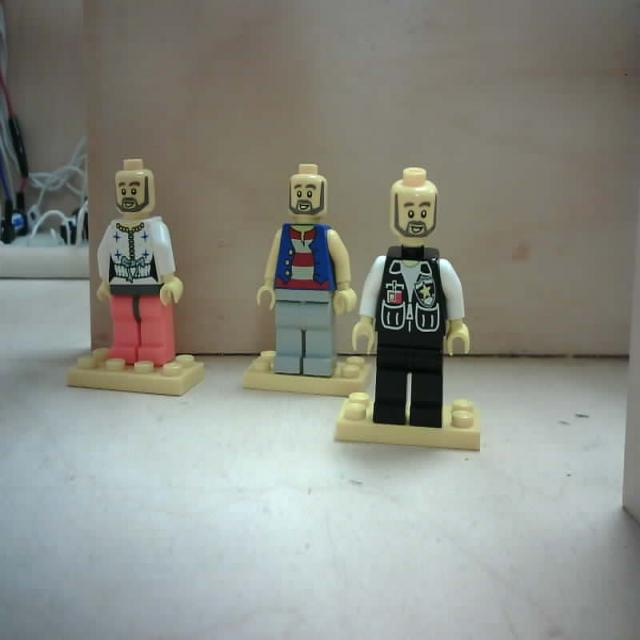Lego-People: (333, 168, 482, 452), (68, 160, 206, 407), (245, 164, 373, 396)
